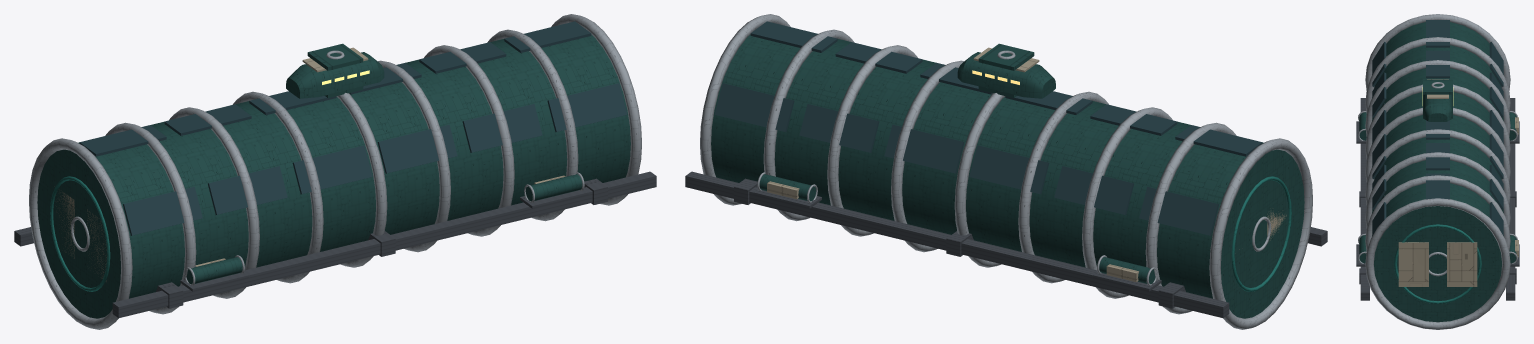
The model's file is large_agricultural_cylinder_lod2.glb.
The picture shows the model from 3 angles, left to right: view 1: azimuth 30°, elevation 25°; view 2: azimuth 150°, elevation 25°; view 3: azimuth 270°, elevation 25°; orthographic projection. The views are drawn at different scales.
Parts seen in each view (by area): view 1: LOD2_Armor, LOD2_BrushedMetal, LOD2_CANOPY, LOD2_Mechanical, LOD2_Hull, LOD2_Livery; view 2: LOD2_Armor, LOD2_BrushedMetal, LOD2_CANOPY, LOD2_Mechanical, LOD2_Hull, LOD2_Livery; view 3: LOD2_Armor, LOD2_BrushedMetal, LOD2_CANOPY, LOD2_Hull, LOD2_Mechanical, LOD2_Livery.
Part boxes in pixels (left/top/right/bottom): LOD2_Armor: left=37, top=34, right=630, bottom=318; LOD2_BrushedMetal: left=29, top=14, right=641, bottom=329; LOD2_CANOPY: left=79, top=21, right=627, bottom=235; LOD2_Mechanical: left=14, top=171, right=656, bottom=318; LOD2_Hull: left=54, top=47, right=565, bottom=281; LOD2_Livery: left=50, top=176, right=110, bottom=291; LOD2_Armor: left=711, top=34, right=1304, bottom=318; LOD2_BrushedMetal: left=700, top=14, right=1312, bottom=329; LOD2_CANOPY: left=714, top=21, right=1262, bottom=235; LOD2_Mechanical: left=685, top=171, right=1327, bottom=318; LOD2_Hull: left=767, top=47, right=1286, bottom=282; LOD2_Livery: left=1231, top=176, right=1291, bottom=291; LOD2_Armor: left=1359, top=22, right=1516, bottom=322; LOD2_BrushedMetal: left=1358, top=14, right=1517, bottom=329; LOD2_CANOPY: left=1372, top=20, right=1503, bottom=235; LOD2_Hull: left=1398, top=79, right=1518, bottom=286; LOD2_Mechanical: left=1356, top=98, right=1519, bottom=300; LOD2_Livery: left=1394, top=224, right=1481, bottom=303.
Bounding box in the file's own units: 76 × 27.93 × 27.
Materials: 7 (5 with a texture image).
